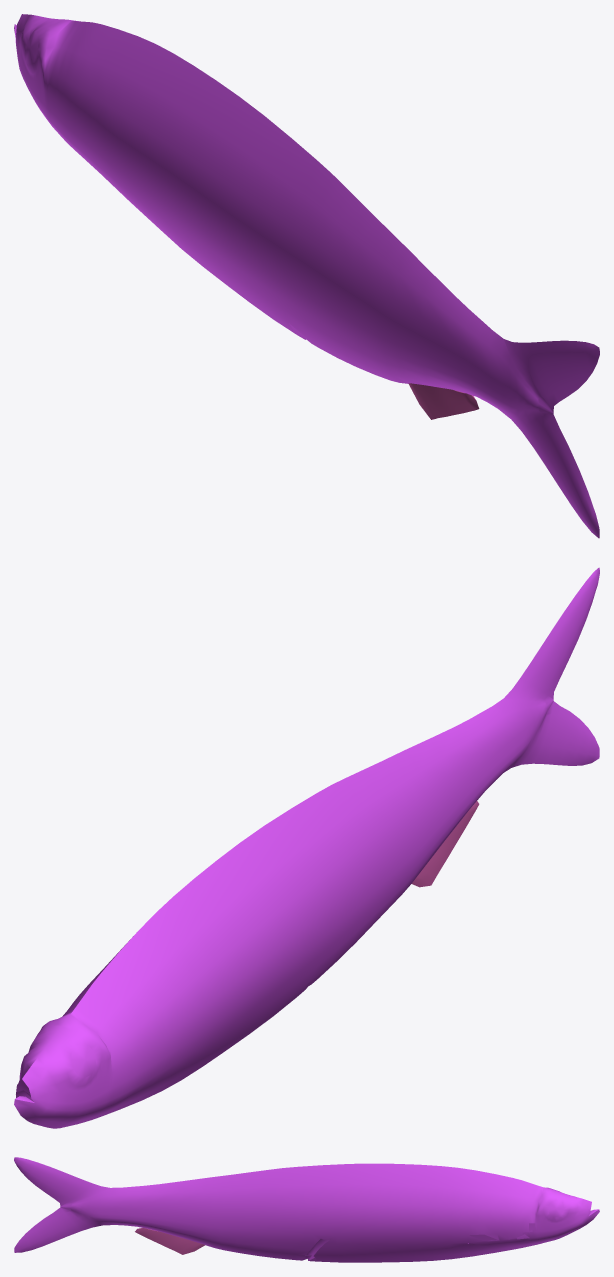
3 renders of one model, top to bottom at view 1: azimuth 30°, elevation 25°; view 2: azimuth 150°, elevation 25°; view 3: azimuth 270°, elevation 25°, orthographic. The views are drawn at different scales.
Visible parts, largest first — view 1: split_parent_0, Object_7.004; view 2: split_parent_0, Object_7.004; view 3: split_parent_0, Object_7.004.
Boxes of the visible parts, bbox=[...] form: split_parent_0: bbox=[14, 14, 599, 538]; Object_7.004: bbox=[408, 383, 479, 419]; split_parent_0: bbox=[14, 567, 599, 1128]; Object_7.004: bbox=[411, 801, 479, 887]; split_parent_0: bbox=[14, 1157, 599, 1262]; Object_7.004: bbox=[135, 1228, 204, 1254].
Bounding box in the file's own units: 0.079 × 0.1986 × 1.
